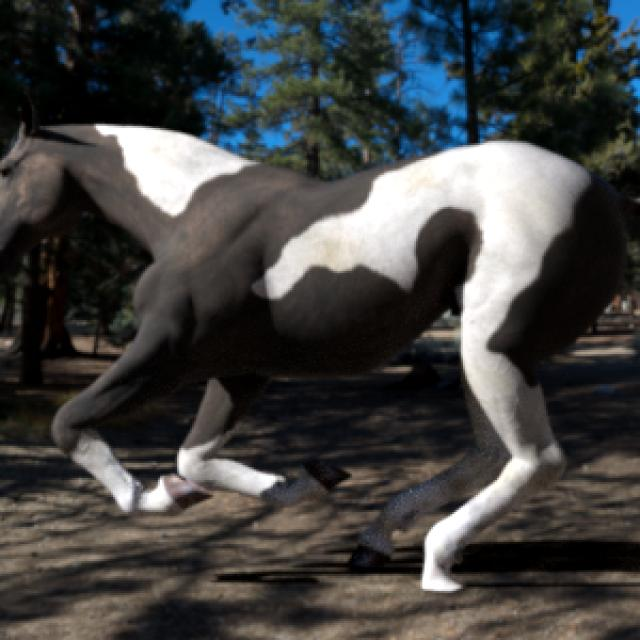horse: (0, 125, 624, 591)
